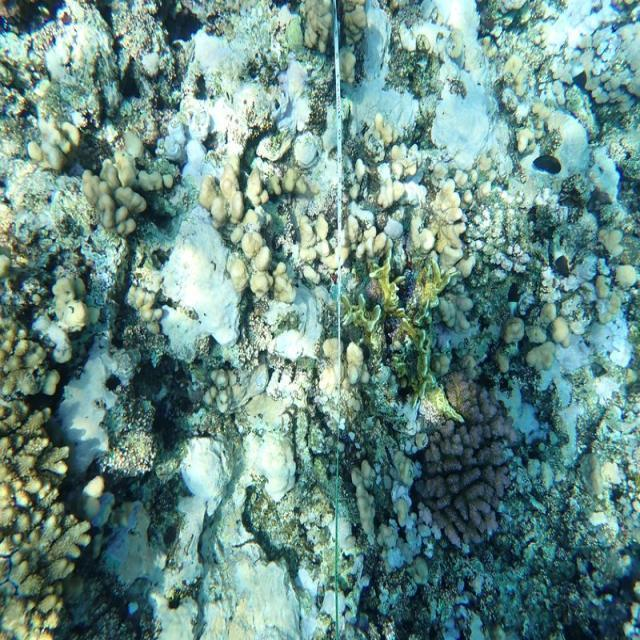Bleached Coral: (329, 0, 512, 177), (528, 230, 636, 410), (181, 415, 310, 541), (155, 202, 244, 359), (161, 92, 267, 195), (481, 345, 573, 463), (58, 336, 133, 462), (532, 0, 618, 99)
